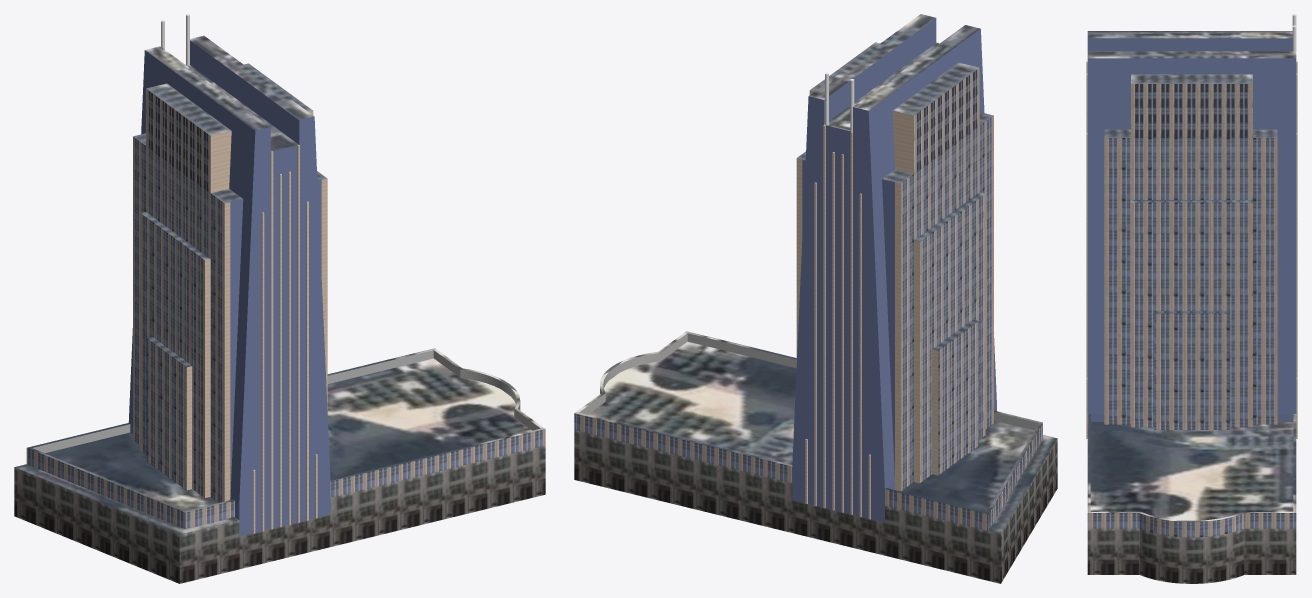
File: times_finanial_center_709a19e8.glb
3 views of the same model, side by side, from view 1: azimuth 30°, elevation 25°; view 2: azimuth 150°, elevation 25°; view 3: azimuth 270°, elevation 25° (orthographic). The views are drawn at different scales.
Parts seen in each view (by area): view 1: times_finanial_center_709a19e8; view 2: times_finanial_center_709a19e8; view 3: times_finanial_center_709a19e8.
Boxes of the visible parts, <box> form: times_finanial_center_709a19e8: <box>14,14,545,583</box>; times_finanial_center_709a19e8: <box>574,14,1057,583</box>; times_finanial_center_709a19e8: <box>1086,14,1297,583</box>.
Bounding box in the file's own units: 115 × 114 × 50.5.
2 materials, 2 textured.
